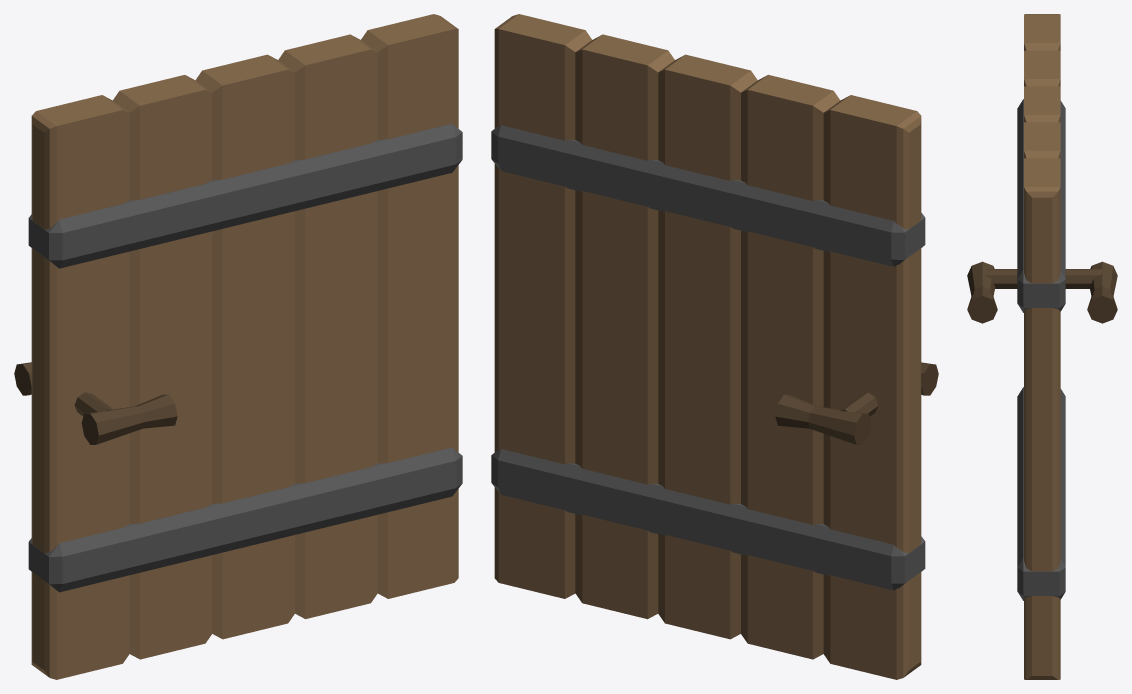
The model's file is Door.glb.
The picture shows the model from 3 angles, left to right: view 1: azimuth 30°, elevation 25°; view 2: azimuth 150°, elevation 25°; view 3: azimuth 270°, elevation 25°; orthographic projection. The views are drawn at different scales.
Visible parts, largest first — view 1: Door; view 2: Door; view 3: Door.
Part boxes in pixels (x1,y1,x2,y2): Door: (14,14,462,679); Door: (491,14,938,679); Door: (967,14,1117,679).
Size of the model in its own units: 8.03 by 10.27 by 2.84.
